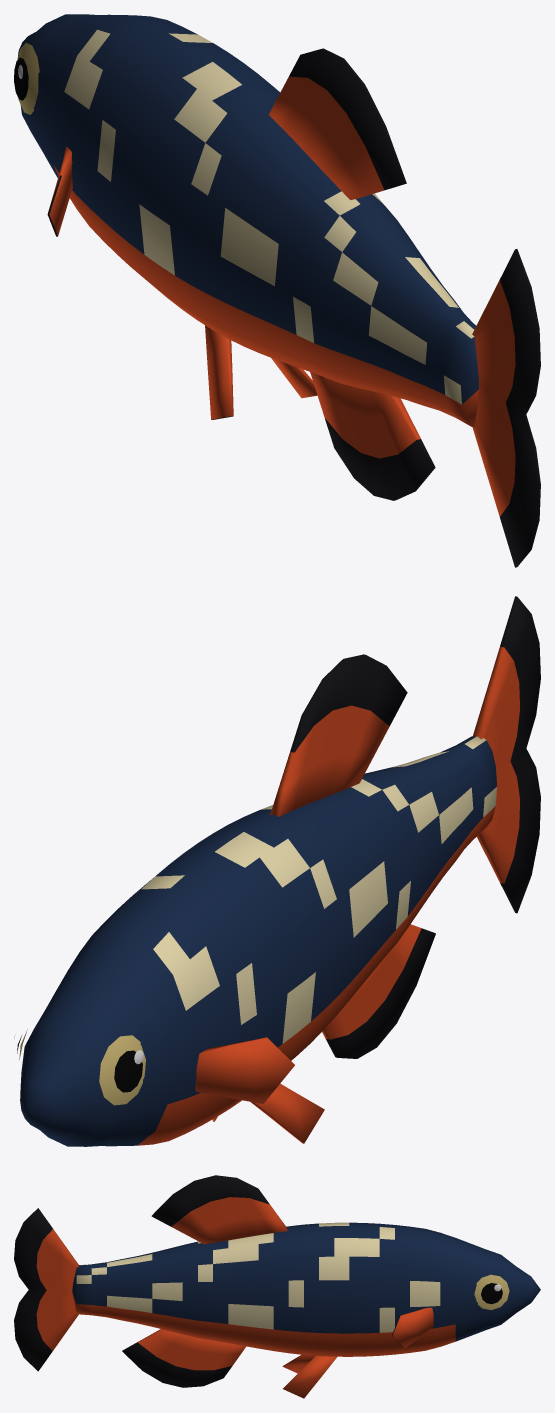
File: pearl_danio.glb
3 views of the same model, one above another, from view 1: azimuth 30°, elevation 25°; view 2: azimuth 150°, elevation 25°; view 3: azimuth 270°, elevation 25° (orthographic). The views are drawn at different scales.
Visible parts, largest first — view 1: pearl_danio; view 2: pearl_danio; view 3: pearl_danio.
Part boxes in pixels (bbox=[...]): pearl_danio: bbox=[14, 14, 540, 567]; pearl_danio: bbox=[14, 596, 540, 1146]; pearl_danio: bbox=[14, 1175, 540, 1398].
Bounding box in the file's own units: 0.5456 × 0.8745 × 1.97.
